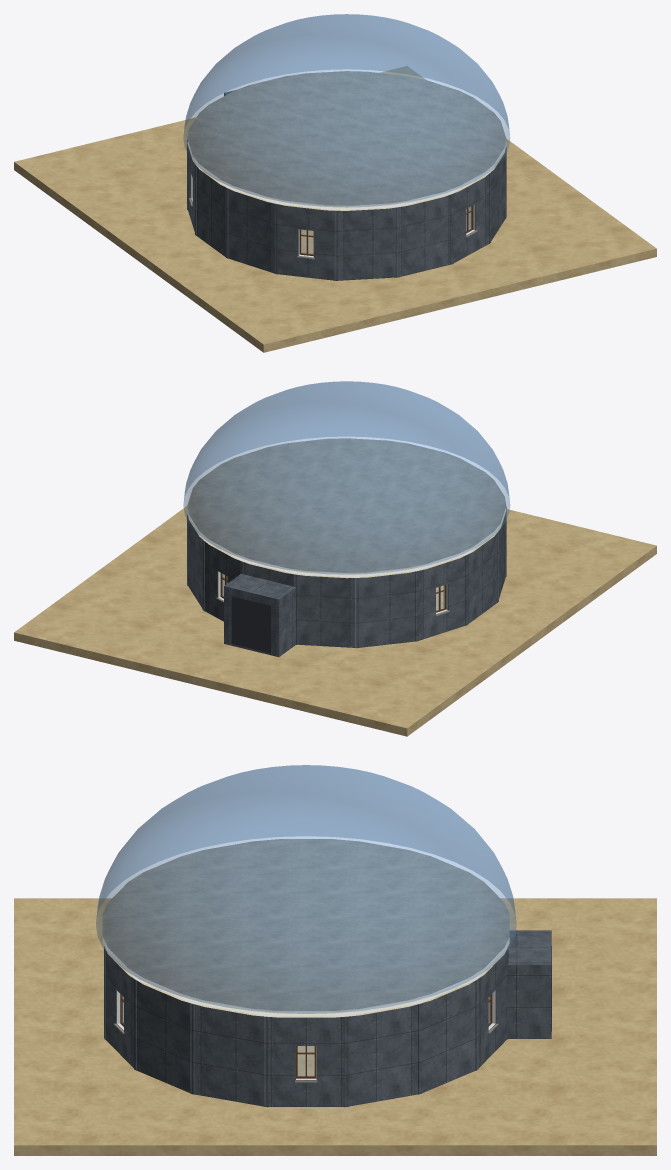
The model's file is b_space_colony_dome.gltf.
3 views of the same model, one above another, from view 1: azimuth 30°, elevation 25°; view 2: azimuth 150°, elevation 25°; view 3: azimuth 270°, elevation 25° (orthographic). The views are drawn at different scales.
Visible parts, largest first — view 1: S_space_colony_dome; view 2: S_space_colony_dome; view 3: S_space_colony_dome.
Part boxes in pixels (left/top/right/bottom): S_space_colony_dome: left=14, top=14, right=656, bottom=352; S_space_colony_dome: left=14, top=381, right=656, bottom=736; S_space_colony_dome: left=14, top=765, right=656, bottom=1155.
Bounding box in the file's own units: 20 × 9.09 × 22.
Materials: 15 (8 with a texture image).
